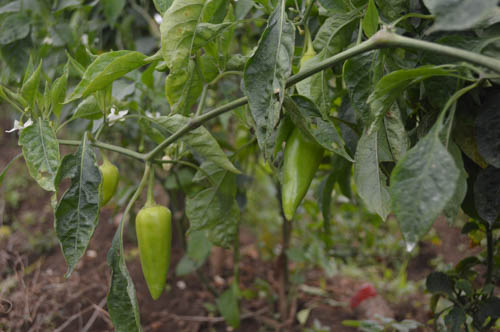ChiliPepper: (278, 126, 323, 228), (134, 207, 171, 306), (99, 163, 123, 205)
